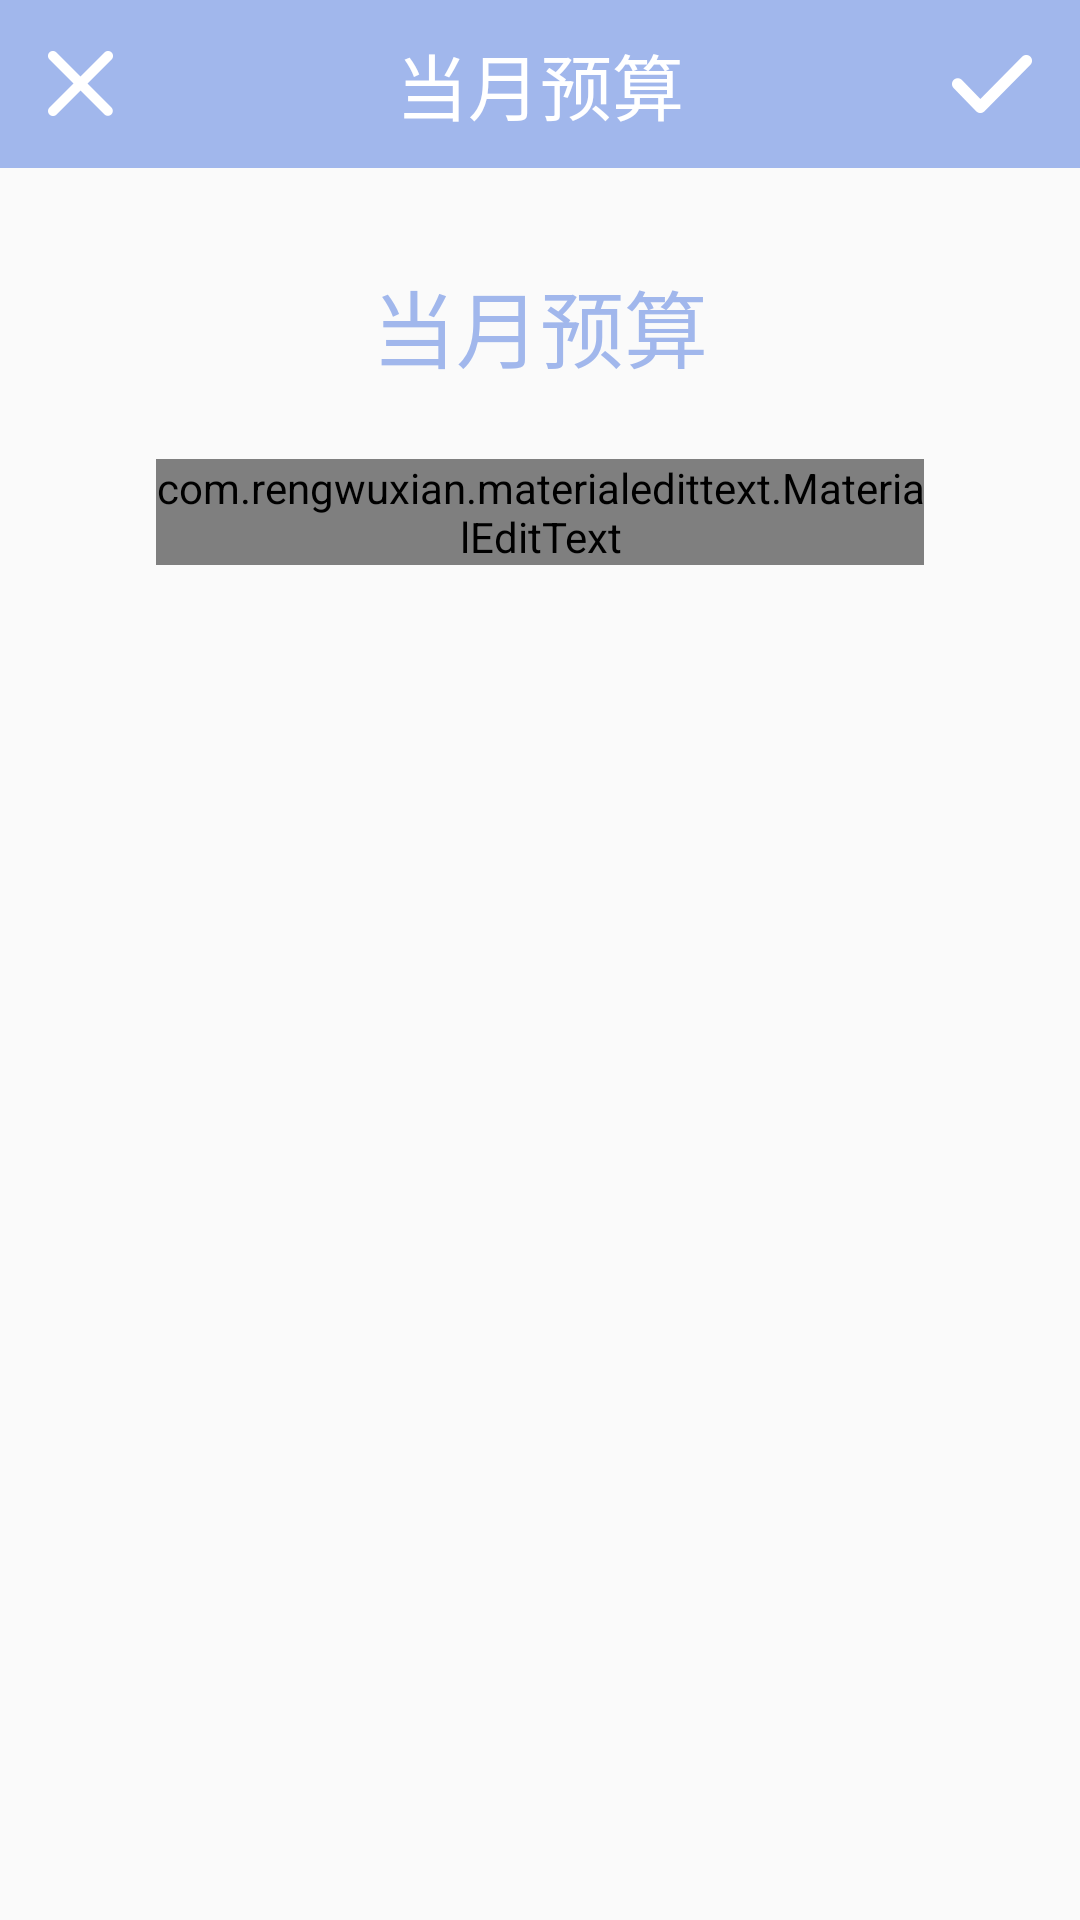

Icons on this 1080w x 1920h Android screen, each with the point to tap as [x,y]:
clear: [80,83]
done: [992,84]
